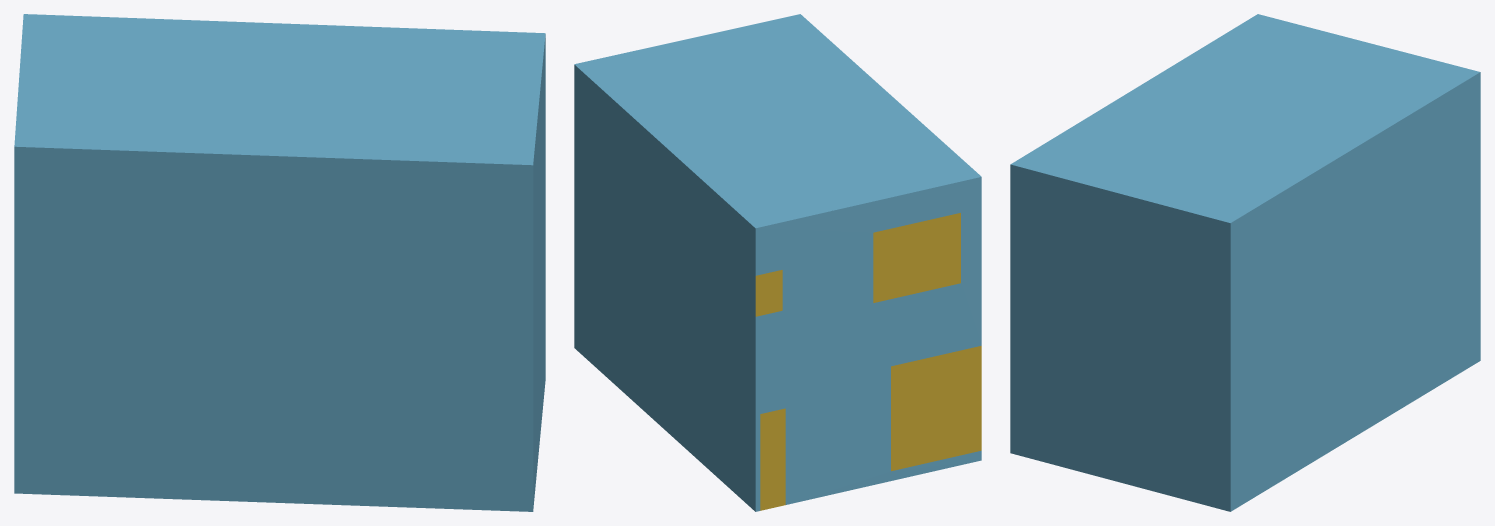
The model's file is bldg_f0c2217b-22b4-4b79-9e29-e31543e9991c.obj.
The picture shows the model from 3 angles, left to right: view 1: azimuth 30°, elevation 25°; view 2: azimuth 150°, elevation 25°; view 3: azimuth 270°, elevation 25°; orthographic projection. The views are drawn at different scales.
Bounding box in the file's own units: 8.97 × 5.77 × 8.52.
